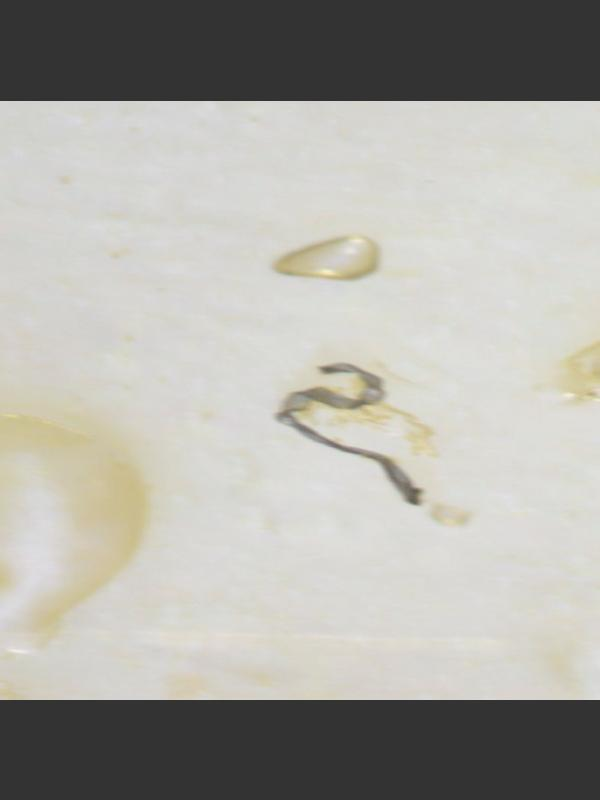microplastic: (0, 411, 154, 694), (274, 361, 444, 505), (274, 233, 383, 280)
